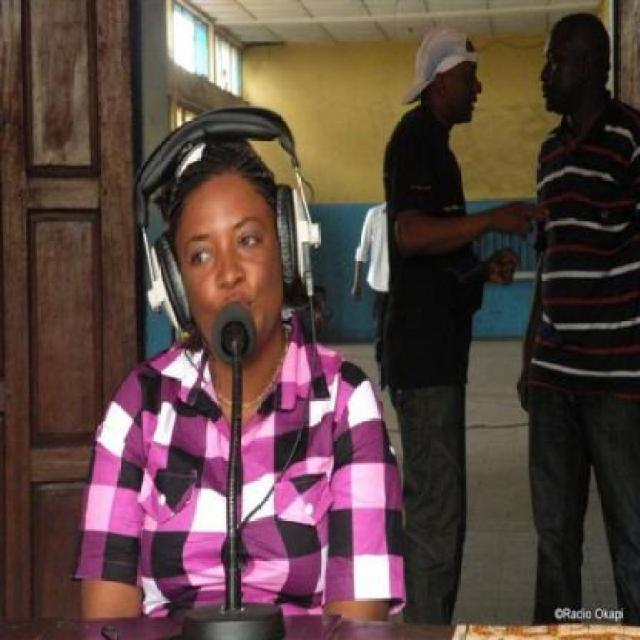earphone: (130, 110, 349, 354)
